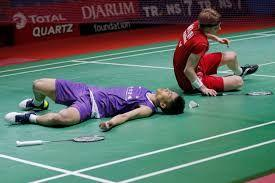bending: (167, 5, 266, 99)
down: (2, 63, 193, 134)
